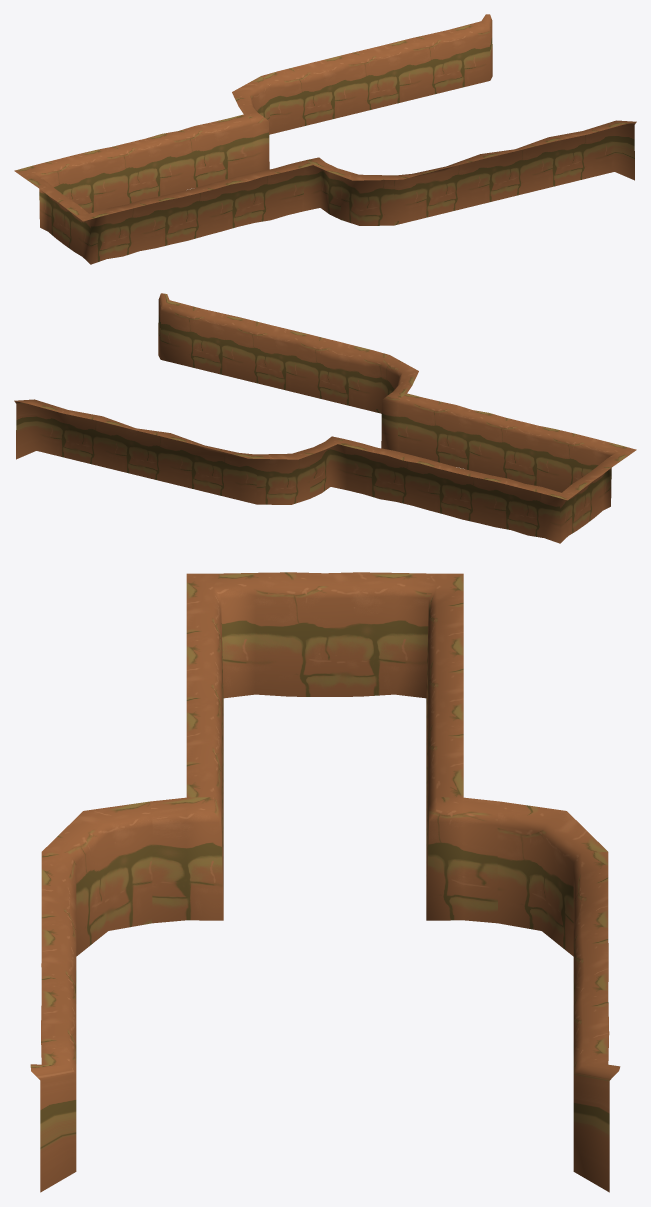
The model's file is WallBoarder.glb.
The picture shows the model from 3 angles, top to bottom: view 1: azimuth 30°, elevation 25°; view 2: azimuth 150°, elevation 25°; view 3: azimuth 270°, elevation 25°; orthographic projection. The views are drawn at different scales.
Parts seen in each view (by area): view 1: WallBoarder; view 2: WallBoarder; view 3: WallBoarder.
Part boxes in pixels (left/top/right/bottom): WallBoarder: left=14, top=14, right=636, bottom=264; WallBoarder: left=14, top=293, right=636, bottom=543; WallBoarder: left=30, top=572, right=620, bottom=1192.
Size of what is drawn, in the model's own units: 62.75 by 7.11 by 31.12.
1 material, 1 textured.
